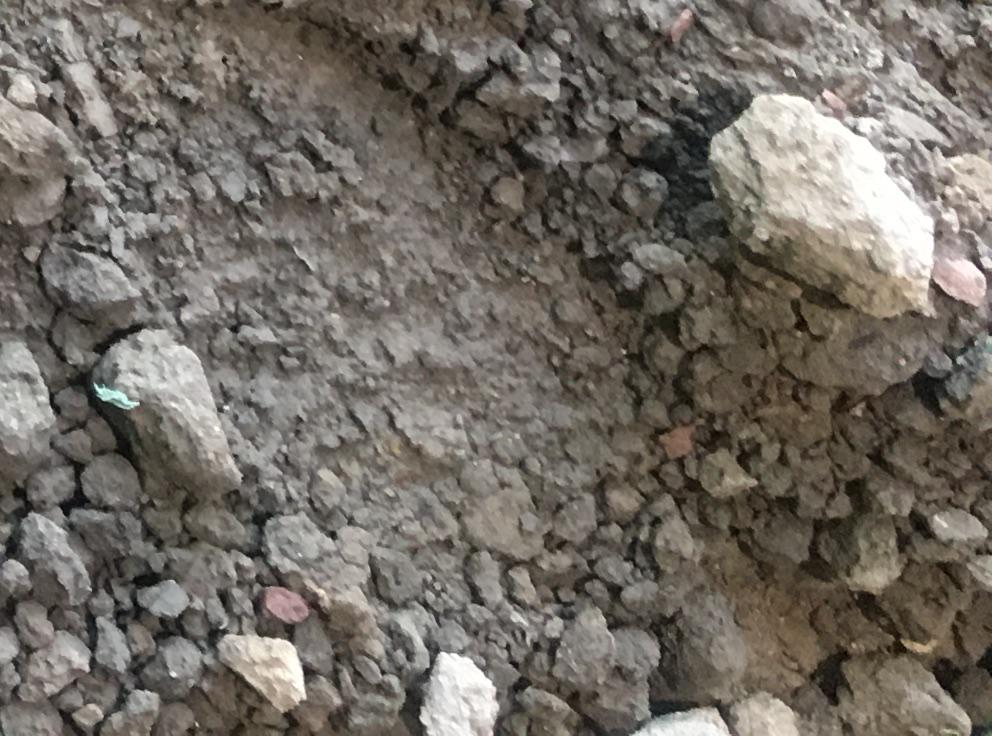block: (707, 93, 938, 330), (81, 328, 247, 497)
